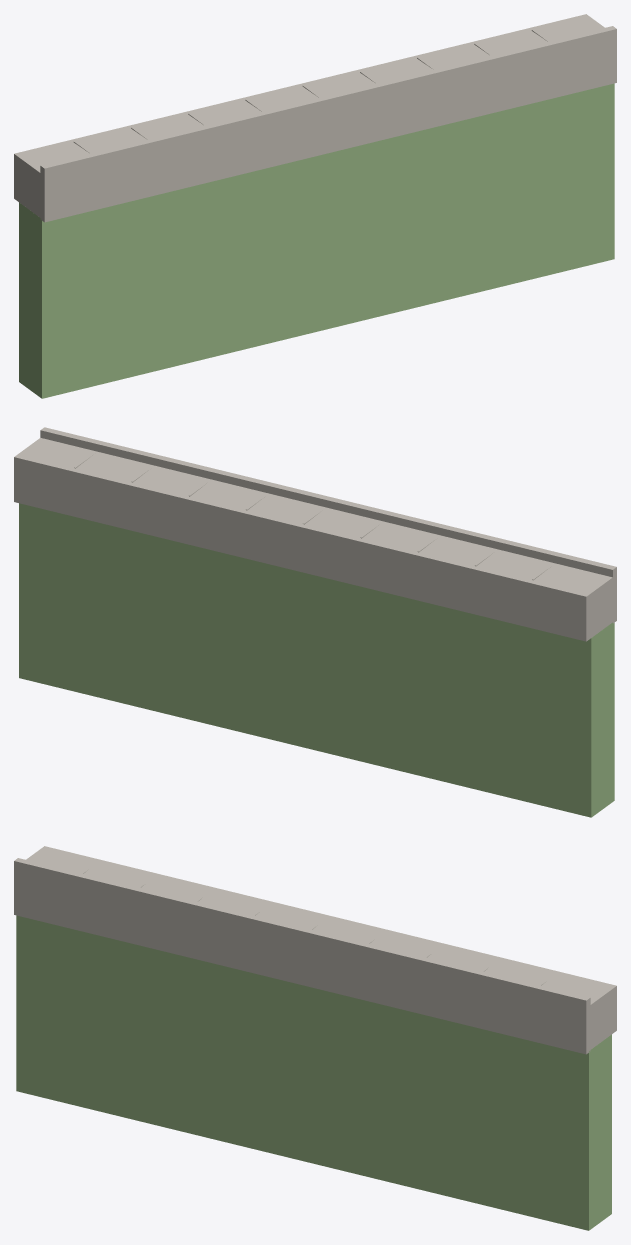
File: r-153-charles-granite-seawall.glb
3 views of the same model, one above another, from view 1: azimuth 30°, elevation 25°; view 2: azimuth 150°, elevation 25°; view 3: azimuth 330°, elevation 25° (orthographic).
Visible parts, largest first — view 1: grass-verge, granite-wall; view 2: grass-verge, granite-wall; view 3: grass-verge, granite-wall.
Boxes of the visible parts, box(x1,y1,x2,y2) form: grass-verge: box(19, 83, 614, 398); granite-wall: box(14, 14, 616, 222); grass-verge: box(19, 503, 614, 817); granite-wall: box(14, 427, 616, 641); grass-verge: box(16, 915, 611, 1230); granite-wall: box(14, 846, 616, 1054).
Bounding box in the file's own units: 20000 × 7749 × 1851.
